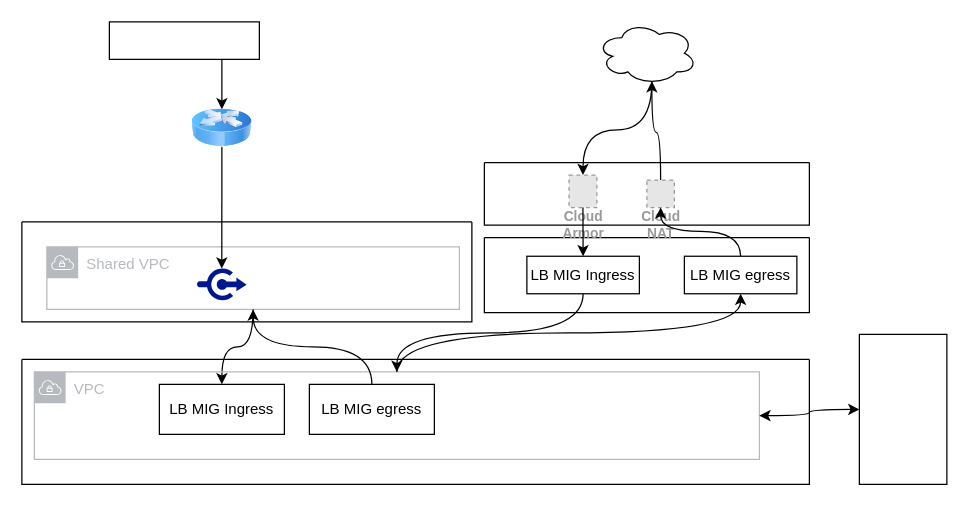
The diagram is 969 pixels wide and 506 high, and some of its shapes have lost their labels. Grey dashed boxes stand in for pictures. Each missing label, with the centre of its shape:
GCP Services: (x=902, y=408)
Internal Network: (x=183, y=40)
Internet: (x=646, y=52)
